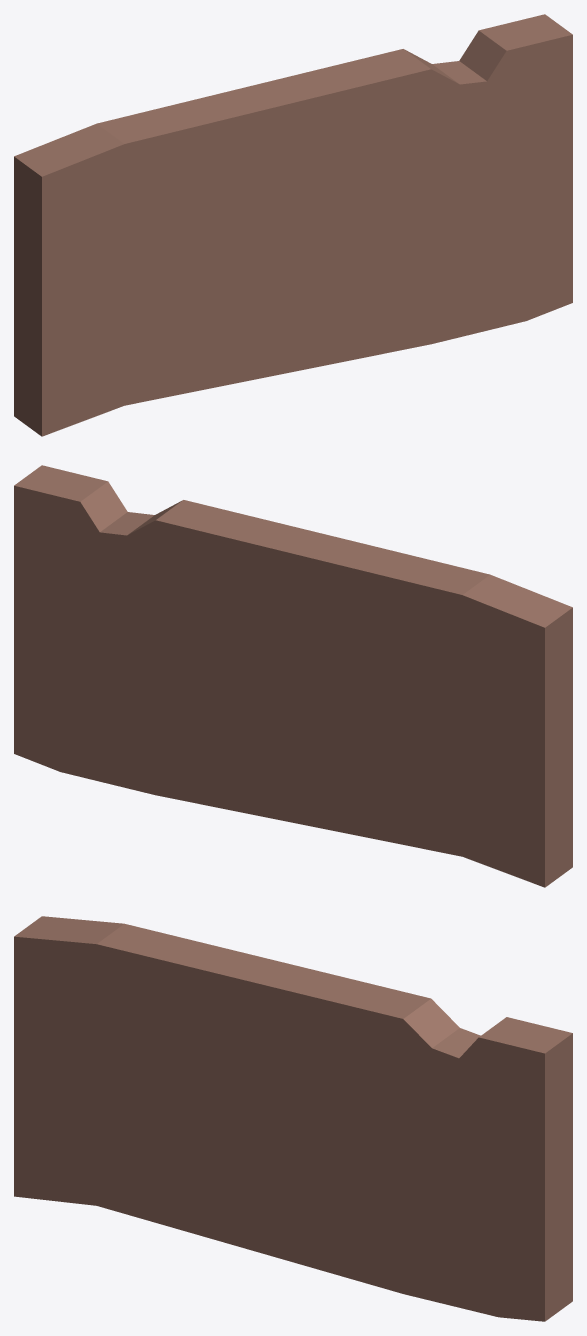
Rendered from Brick 02.fbx.
The picture shows the model from 3 angles, top to bottom: view 1: azimuth 30°, elevation 25°; view 2: azimuth 150°, elevation 25°; view 3: azimuth 330°, elevation 25°; orthographic projection.
Visible parts, largest first — view 1: Brick 02; view 2: Brick 02; view 3: Brick 02.
Part boxes in pixels (bbox=[...]): Brick 02: bbox=[14, 14, 572, 436]; Brick 02: bbox=[14, 465, 572, 887]; Brick 02: bbox=[14, 916, 572, 1321].
Size of the model in its own units: 33.47 by 16.57 by 3.05.
